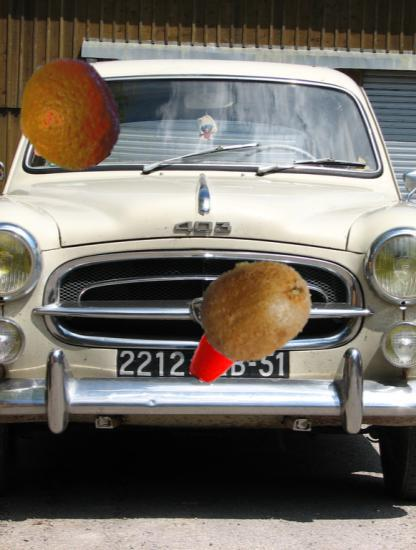Kiwi: (197, 252, 314, 369)
Mandarine: (13, 57, 127, 171)
Tomato: (183, 316, 253, 386)
